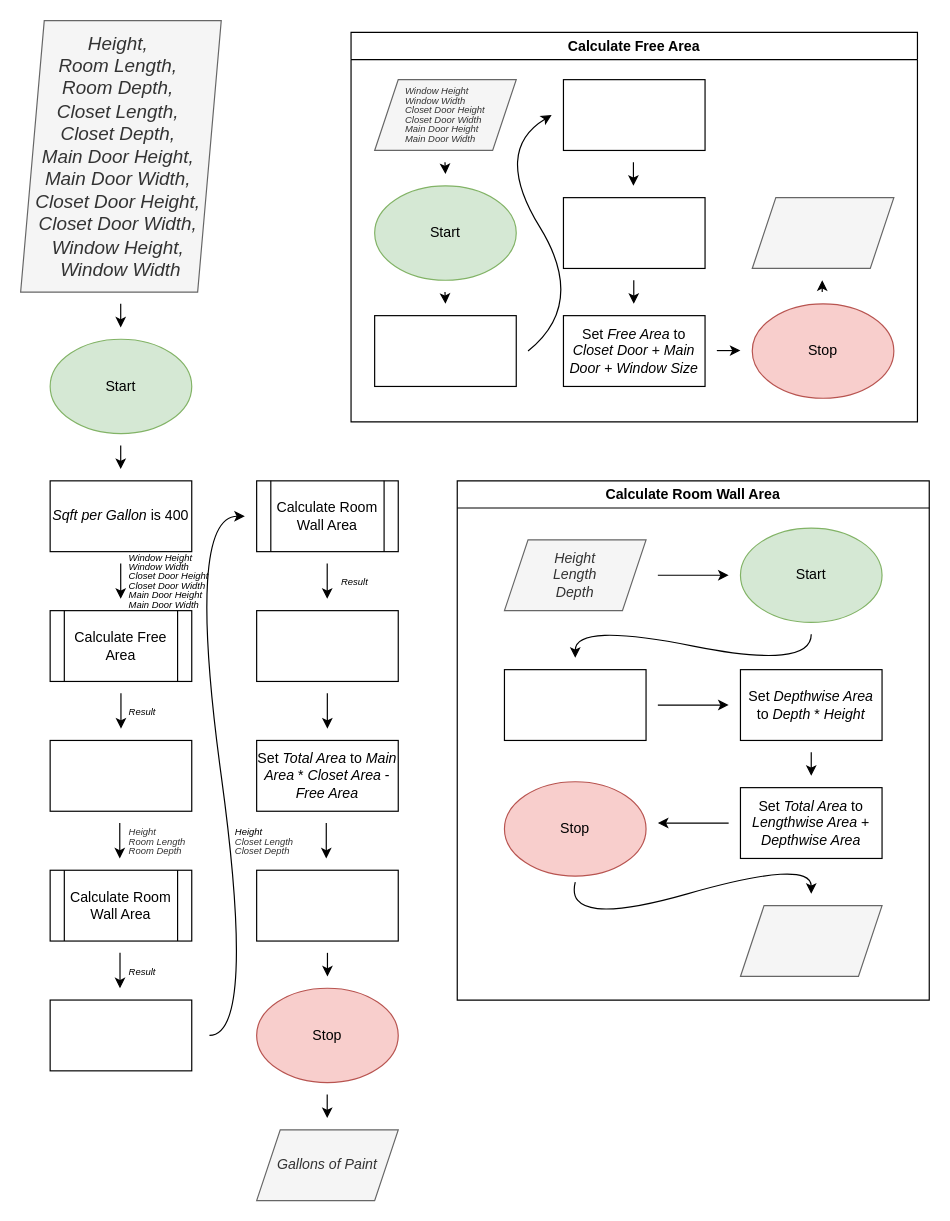
Some shapes in this 950 by 1221 pixel diagram are drawn without their labels. The centre of each missing label's shape, as x and y in pixels:
Misc. Area: point 822,232
Set Closet Area to Result: point 326,645
Set Closet Door to Closet Door Height * Closet Door Width * 2: point 444,350
Set Free Area to Result: point 120,775
Set Gallons of Paint to Total Area / Sqft per Gallon * 2: point 326,905
Set Lengthwise Area to Length * Height: point 574,704
Set Main Area to Result: point 120,1035
Set Main Door to Main Door Height * Main Door Width: point 633,114
Set Window Size to Window Height * Window Width: point 633,232
Total Area: point 810,940
